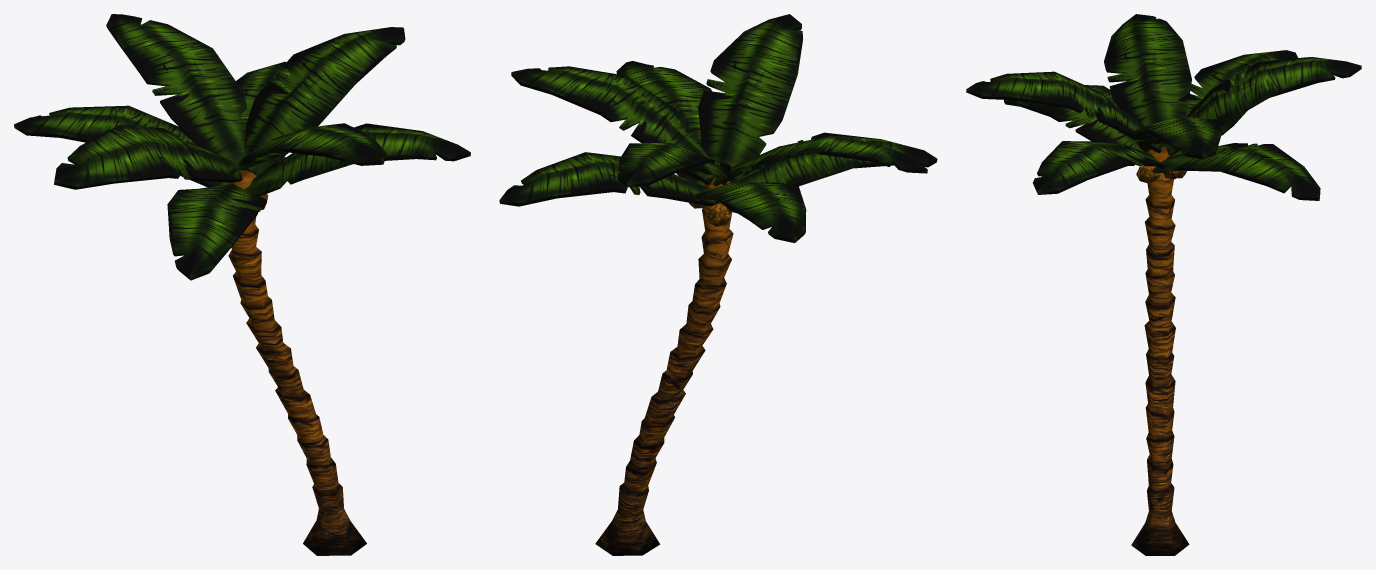
File: Palme_E01.fbx
3 views of the same model, side by side, from view 1: azimuth 30°, elevation 25°; view 2: azimuth 150°, elevation 25°; view 3: azimuth 270°, elevation 25° (orthographic). The views are drawn at different scales.
Parts seen in each view (by area): view 1: PalbeSubs.005, PalbeSubs.002, PalbeSubs.006, PalbeSubs.004, PalbeSubs.008, PalbeSubs.010, PalbeSubs.011, PalbeSubs.007, PalbeSubs.009; view 2: PalbeSubs.007, PalbeSubs.002, PalbeSubs.006, PalbeSubs.009, PalbeSubs.011, PalbeSubs.004, PalbeSubs.005, PalbeSubs.008, PalbeSubs.010; view 3: PalbeSubs.002, PalbeSubs.004, PalbeSubs.005, PalbeSubs.007, PalbeSubs.009, PalbeSubs.010, PalbeSubs.006, PalbeSubs.011, PalbeSubs.008.
Boxes of the visible parts, bbox=[...] form: PalbeSubs.005: bbox=[106, 14, 247, 164]; PalbeSubs.002: bbox=[228, 170, 366, 555]; PalbeSubs.006: bbox=[244, 27, 405, 176]; PalbeSubs.004: bbox=[54, 124, 242, 189]; PalbeSubs.008: bbox=[167, 184, 266, 280]; PalbeSubs.010: bbox=[245, 123, 470, 195]; PalbeSubs.011: bbox=[14, 105, 230, 187]; PalbeSubs.007: bbox=[228, 123, 386, 175]; PalbeSubs.009: bbox=[236, 61, 292, 176]; PalbeSubs.007: bbox=[698, 14, 802, 180]; PalbeSubs.002: bbox=[595, 177, 733, 555]; PalbeSubs.006: bbox=[511, 66, 713, 185]; PalbeSubs.009: bbox=[499, 152, 719, 206]; PalbeSubs.011: bbox=[695, 180, 806, 243]; PalbeSubs.004: bbox=[713, 135, 927, 186]; PalbeSubs.005: bbox=[617, 143, 730, 187]; PalbeSubs.008: bbox=[725, 132, 937, 209]; PalbeSubs.010: bbox=[616, 61, 733, 185]; PalbeSubs.002: bbox=[1131, 146, 1189, 555]; PalbeSubs.004: bbox=[1104, 14, 1191, 126]; PalbeSubs.005: bbox=[1165, 57, 1361, 155]; PalbeSubs.007: bbox=[966, 71, 1161, 152]; PalbeSubs.009: bbox=[1152, 143, 1320, 200]; PalbeSubs.010: bbox=[1033, 141, 1165, 194]; PalbeSubs.006: bbox=[1131, 116, 1221, 159]; PalbeSubs.011: bbox=[1161, 50, 1297, 155]; PalbeSubs.008: bbox=[1004, 85, 1148, 153].
Bounding box in the file's own units: 1546 × 1839 × 1513.
3 materials, 3 textured.
